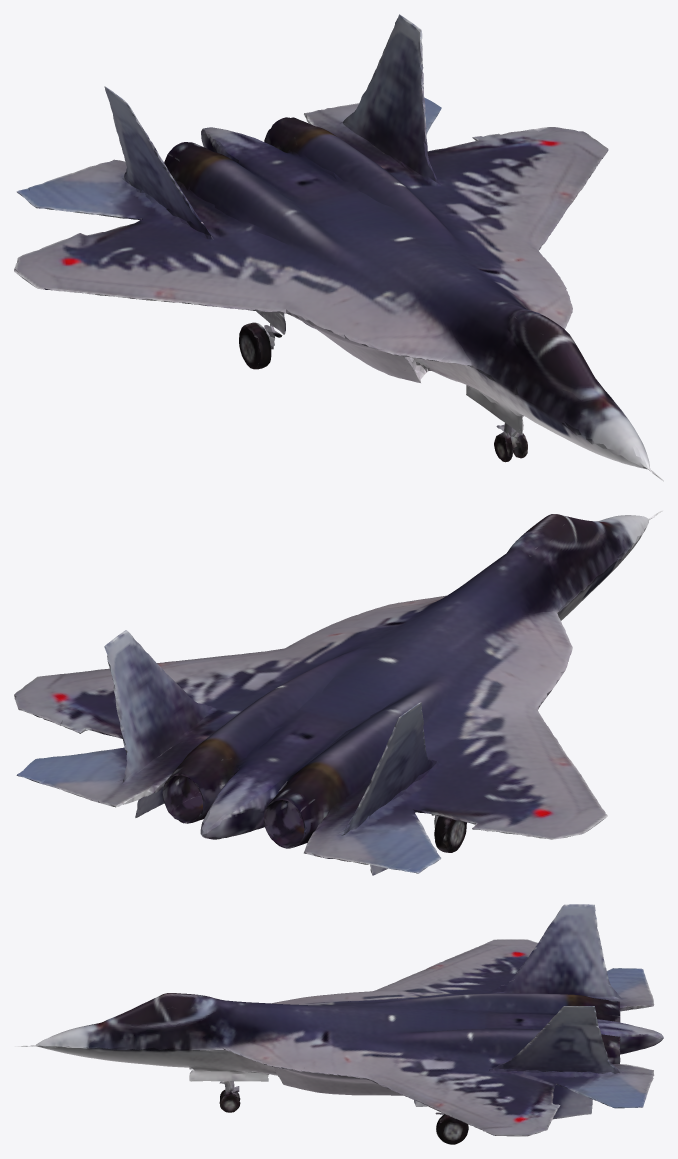
Rendered from Su-57_Felon_AI_Rodin.glb.
3 views of the same model, one above another, from view 1: azimuth 30°, elevation 25°; view 2: azimuth 150°, elevation 25°; view 3: azimuth 270°, elevation 25° (orthographic). The views are drawn at different scales.
Parts seen in each view (by area): view 1: model; view 2: model; view 3: model.
Boxes of the visible parts, bbox=[...] form: model: bbox=[14, 14, 663, 481]; model: bbox=[14, 510, 663, 875]; model: bbox=[15, 904, 663, 1144].
Bounding box in the file's own units: 1.36 × 0.4989 × 1.9.
1 material, 1 textured.
